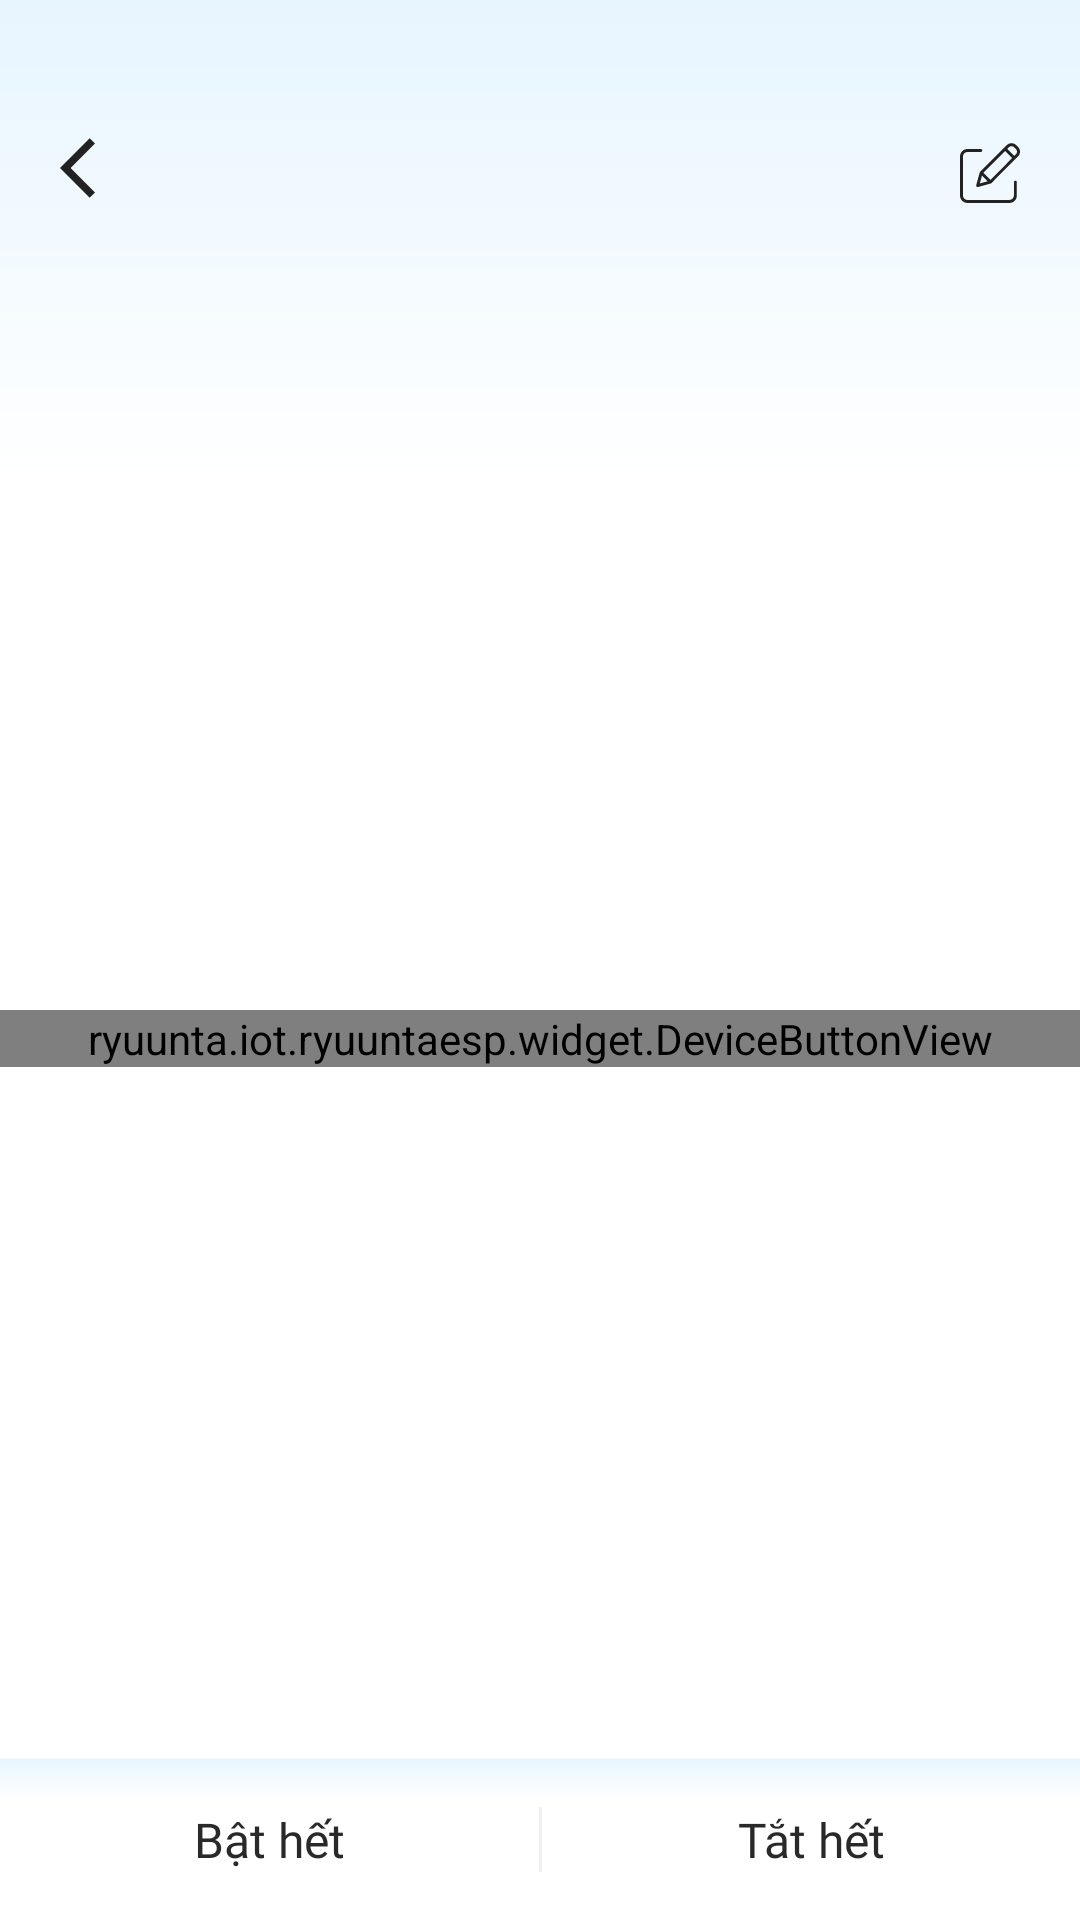

Named icons in this screenshot (1080px x 1920px) and their bounding boxes, (x1, y1, x2, y2):
arrow back: (60, 138, 95, 198)
text editor: (960, 143, 1020, 203)
